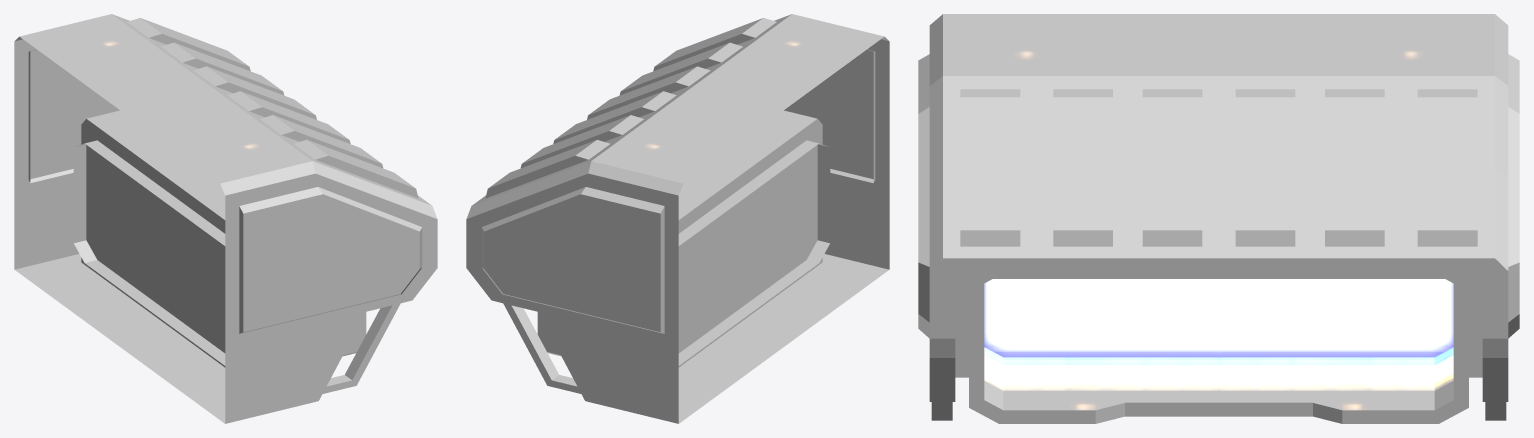
The model's file is uss_hanger_adv.fbx.
3 views of the same model, side by side, from view 1: azimuth 30°, elevation 25°; view 2: azimuth 150°, elevation 25°; view 3: azimuth 270°, elevation 25° (orthographic). The views are drawn at different scales.
Parts seen in each view (by area): view 1: USSNFreedomClassDreadnoughtModule2; view 2: USSNFreedomClassDreadnoughtModule2; view 3: USSNFreedomClassDreadnoughtModule2.
Boxes of the visible parts, x1=… form: USSNFreedomClassDreadnoughtModule2: x1=14, y1=14, x2=437, y2=423; USSNFreedomClassDreadnoughtModule2: x1=466, y1=14, x2=889, y2=423; USSNFreedomClassDreadnoughtModule2: x1=918, y1=14, x2=1519, y2=423.
Bounding box in the file's own units: 486 × 518 × 867.
